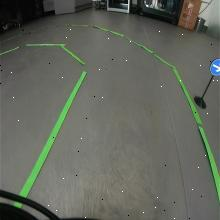right: (209, 56, 220, 75)
